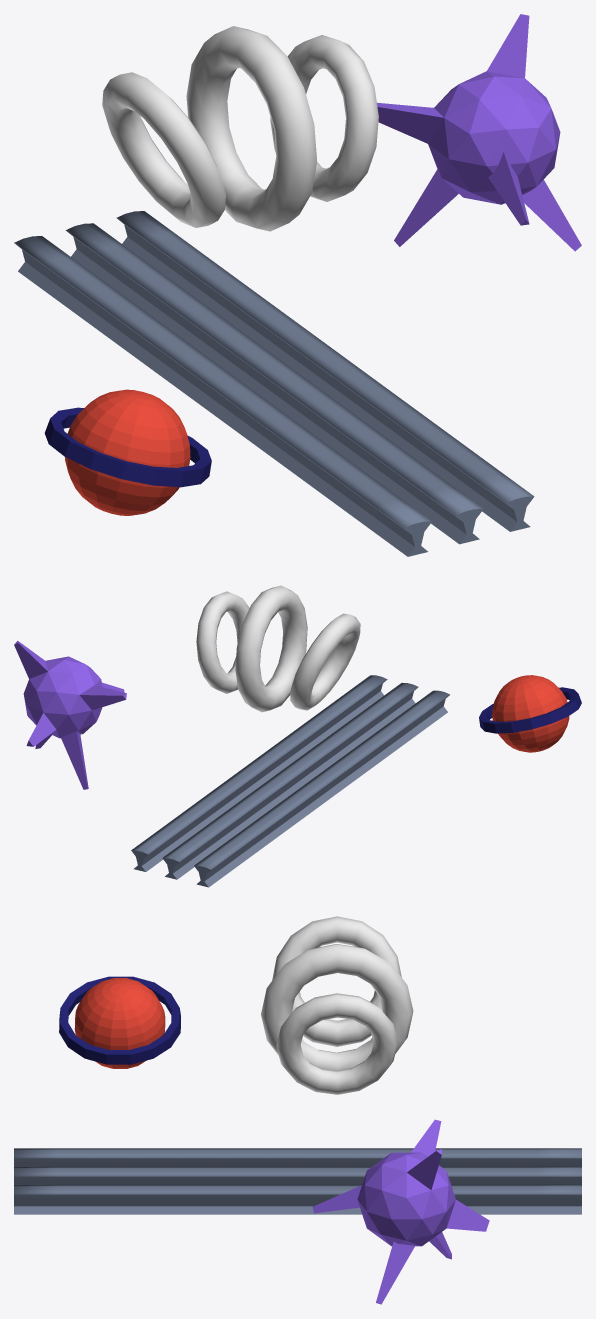
File: space1.fbx
The picture shows the model from 3 angles, top to bottom: view 1: azimuth 30°, elevation 25°; view 2: azimuth 150°, elevation 25°; view 3: azimuth 270°, elevation 25°; orthographic projection. The views are drawn at different scales.
Parts seen in each view (by area): view 1: Cube.001; view 2: Cube.001; view 3: Cube.001.
Part boxes in pixels (bbox=[...]): Cube.001: bbox=[14, 14, 581, 556]; Cube.001: bbox=[14, 585, 581, 887]; Cube.001: bbox=[14, 916, 581, 1304].
Bounding box in the file's own units: 4966 × 2334 × 4790.
